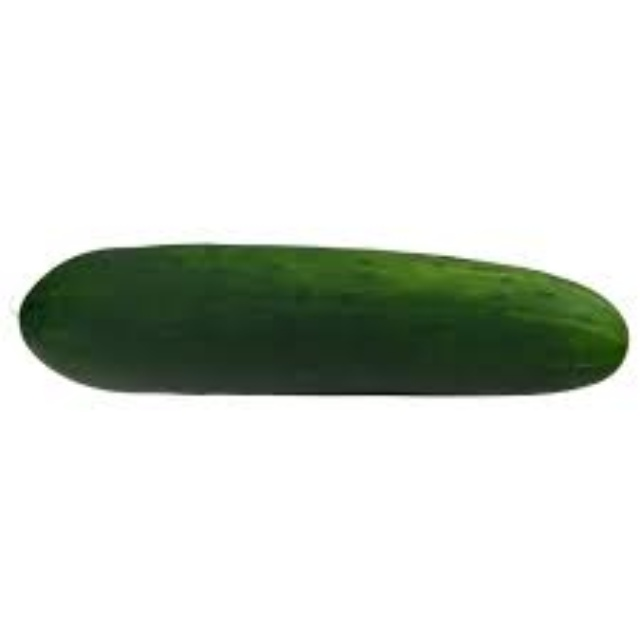dua_leo: (16, 238, 633, 404)
